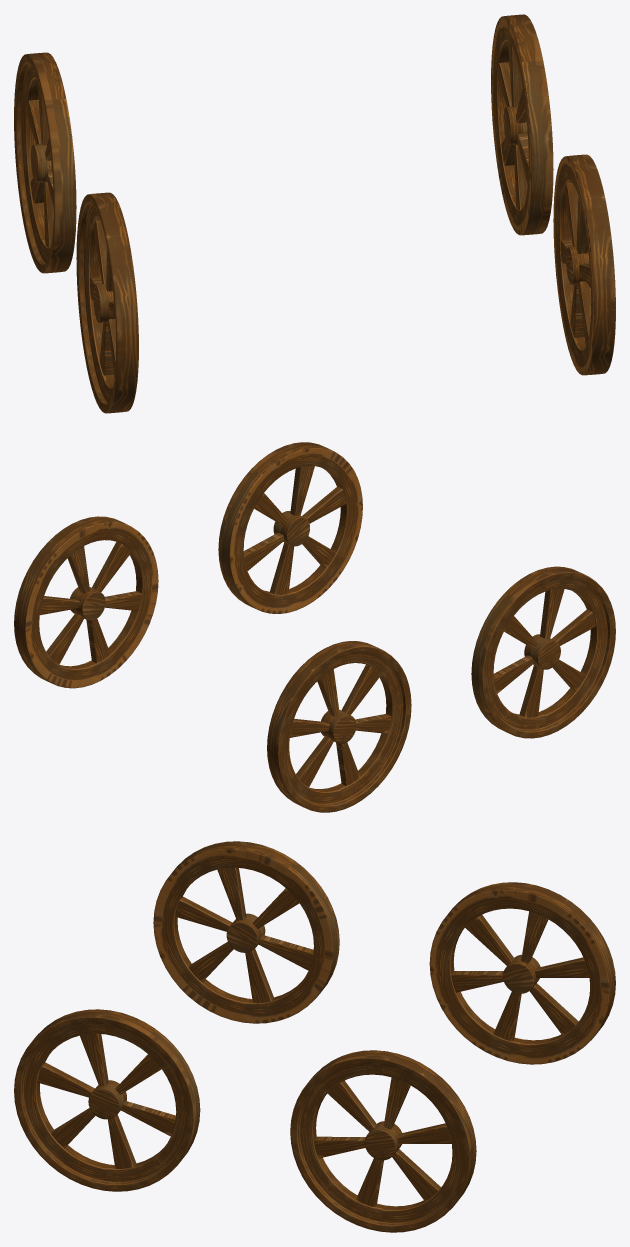
The picture shows the model from 3 angles, top to bottom: view 1: azimuth 30°, elevation 25°; view 2: azimuth 150°, elevation 25°; view 3: azimuth 270°, elevation 25°; orthographic projection. The views are drawn at different scales.
Visible parts, largest first — view 1: Cylinder.095; view 2: Cylinder.095; view 3: Cylinder.095.
Part boxes in pixels (box(x1,y1,x2,y2)): Cylinder.095: box(14, 14, 615, 413); Cylinder.095: box(14, 442, 615, 812); Cylinder.095: box(14, 841, 615, 1232).
Bounding box in the file's own units: 493 × 164 × 515.
Materials: 1 (1 with a texture image).
